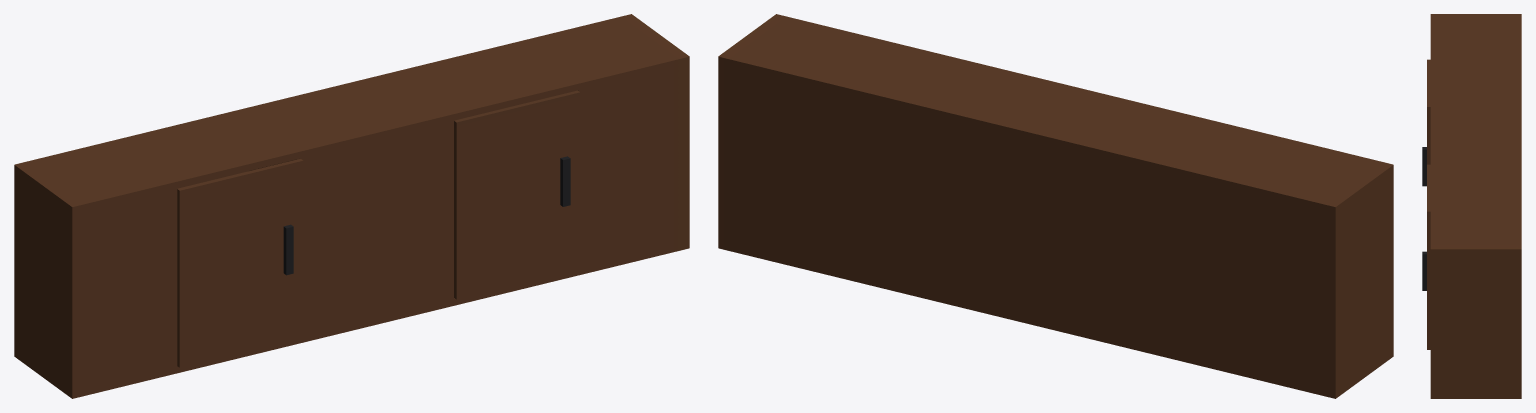
Rendered from Mutfak_Dolab.fbx.
3 renders of one model, left to right at view 1: azimuth 30°, elevation 25°; view 2: azimuth 150°, elevation 25°; view 3: azimuth 270°, elevation 25°, orthographic. The views are drawn at different scales.
Parts seen in each view (by area): view 1: Mutfak_Dolabı; view 2: Mutfak_Dolabı; view 3: Mutfak_Dolabı.
Boxes of the visible parts, <box> form: Mutfak_Dolabı: <box>14,14,689,398</box>; Mutfak_Dolabı: <box>718,14,1393,398</box>; Mutfak_Dolabı: <box>1422,14,1521,398</box>.
Size of the model in its own units: 351 by 104 by 62.57.
